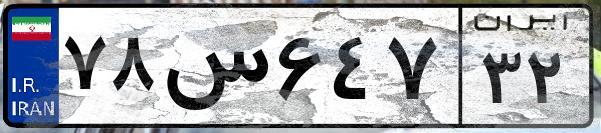2: (525, 38, 570, 115)
3: (475, 38, 525, 113)
4: (330, 28, 385, 110)
6: (270, 28, 330, 110)
7: (385, 28, 445, 110), (57, 26, 110, 100)
8: (110, 28, 158, 98)
س: (158, 20, 270, 120)
